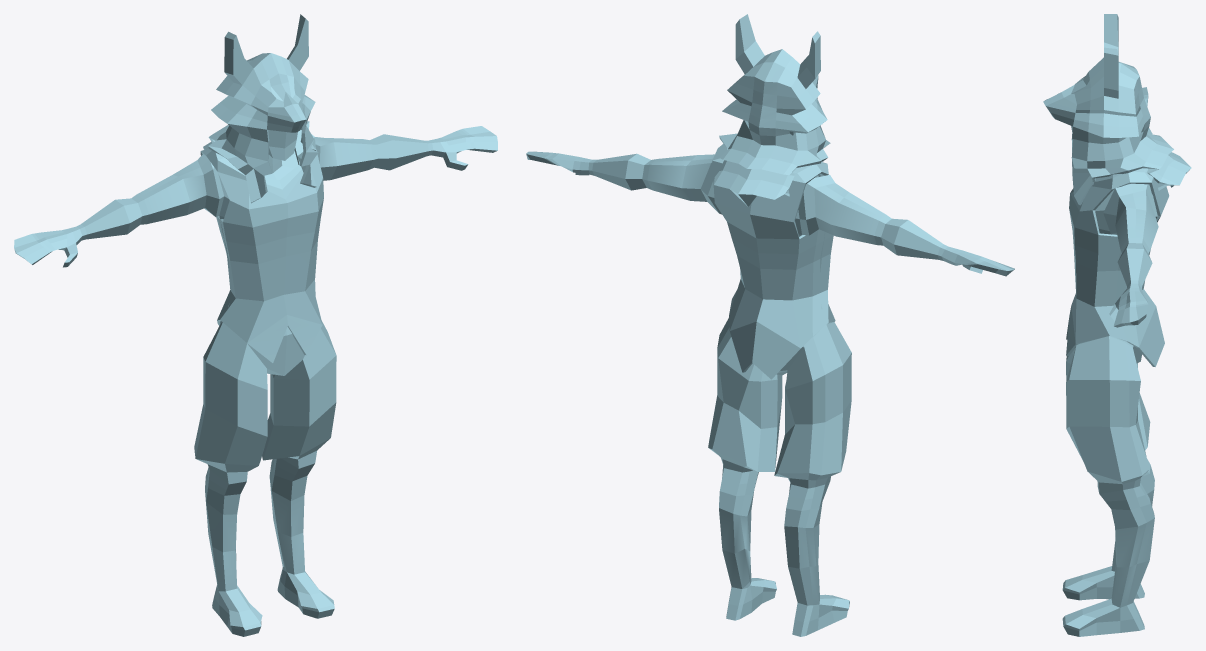
File: Modular_Base.fbx
3 renders of one model, left to right at view 1: azimuth 30°, elevation 25°; view 2: azimuth 150°, elevation 25°; view 3: azimuth 270°, elevation 25°, orthographic.
Visible parts, largest first — view 1: arrmor; view 2: arrmor; view 3: arrmor.
Boxes of the visible parts, x1,y1,x2,y2 form: arrmor: (14,14,497,636); arrmor: (526,14,1014,636); arrmor: (1043,14,1191,636).
Bounding box in the file's own units: 169 × 197 × 45.56.
